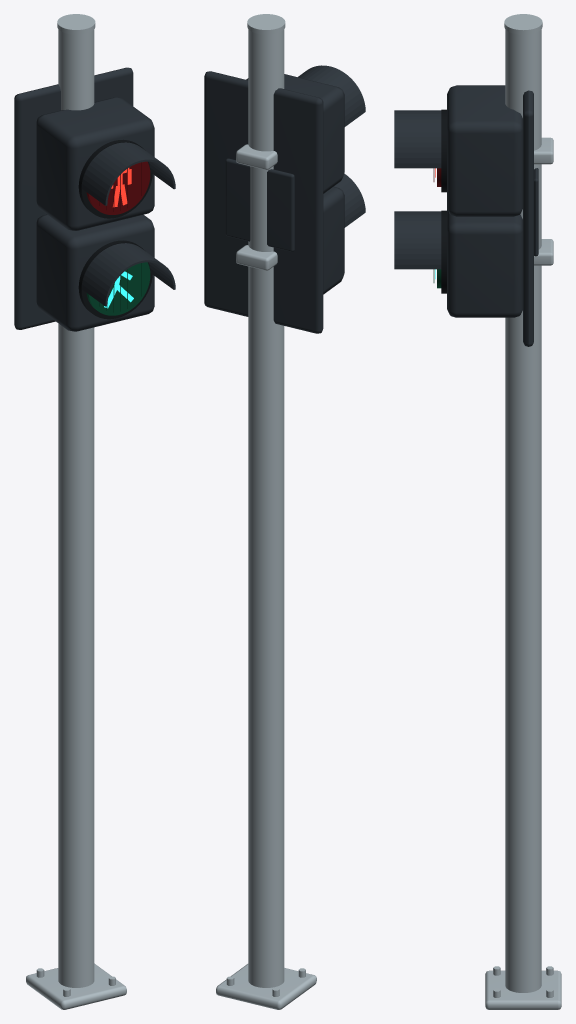
File: DS_Signal_Pedestrian.fbx
3 views of the same model, side by side, from view 1: azimuth 30°, elevation 25°; view 2: azimuth 150°, elevation 25°; view 3: azimuth 270°, elevation 25° (orthographic).
Visible parts, largest first — view 1: Post.014, Module_Red.002, Backplate.002, Module_Green.003, SunVisor.007, SunVisor.008, BasePlate.014, Lens_Green.003, Lens_Red.002, LensSeal.008, LensSeal.007, PostCap.014; view 2: Post.014, Backplate.002, ServiceDoor.002, Module_Red.002, BasePlate.014, Module_Green.003, SunVisor.007, SunVisor.008, MountBracket.005, MountBracket.004, PostCap.014; view 3: Post.014, Module_Red.002, Module_Green.003, SunVisor.007, SunVisor.008, Backplate.002, BasePlate.014, PostCap.014, LensSeal.007, LensSeal.008, MountBracket.004, ServiceDoor.002 (+1 smaller).
Part boxes in pixels (x1,y1,x2,y2): Post.014: (58, 29, 94, 987); Module_Red.002: (36, 97, 154, 230); Backplate.002: (14, 67, 133, 329); Module_Green.003: (36, 214, 154, 331); SunVisor.007: (82, 142, 175, 205); SunVisor.008: (82, 243, 175, 306); BasePlate.014: (26, 963, 126, 1009); Lens_Green.003: (86, 262, 150, 315); Lens_Red.002: (86, 161, 150, 214); LensSeal.008: (78, 240, 152, 319); LensSeal.007: (78, 139, 152, 218); PostCap.014: (57, 14, 95, 34); Post.014: (248, 29, 284, 987); Backplate.002: (204, 71, 323, 333); ServiceDoor.002: (225, 158, 294, 251); Module_Red.002: (246, 74, 344, 193); BasePlate.014: (216, 964, 316, 1009); Module_Green.003: (323, 186, 344, 294); SunVisor.007: (298, 65, 365, 126); SunVisor.008: (334, 173, 365, 227); MountBracket.005: (236, 245, 277, 270); MountBracket.004: (236, 144, 277, 169); PostCap.014: (247, 14, 285, 34); Post.014: (505, 29, 541, 992); Module_Red.002: (447, 85, 522, 216); Module_Green.003: (447, 208, 522, 317); SunVisor.007: (394, 110, 441, 168); SunVisor.008: (394, 211, 441, 269); Backplate.002: (523, 90, 533, 346); BasePlate.014: (485, 970, 561, 1009); PostCap.014: (504, 14, 542, 34); LensSeal.007: (441, 109, 446, 192); LensSeal.008: (441, 210, 446, 293); MountBracket.004: (534, 137, 553, 164); ServiceDoor.002: (534, 168, 538, 256).
Bounding box in the file's own units: 43 × 337 × 52.5.
